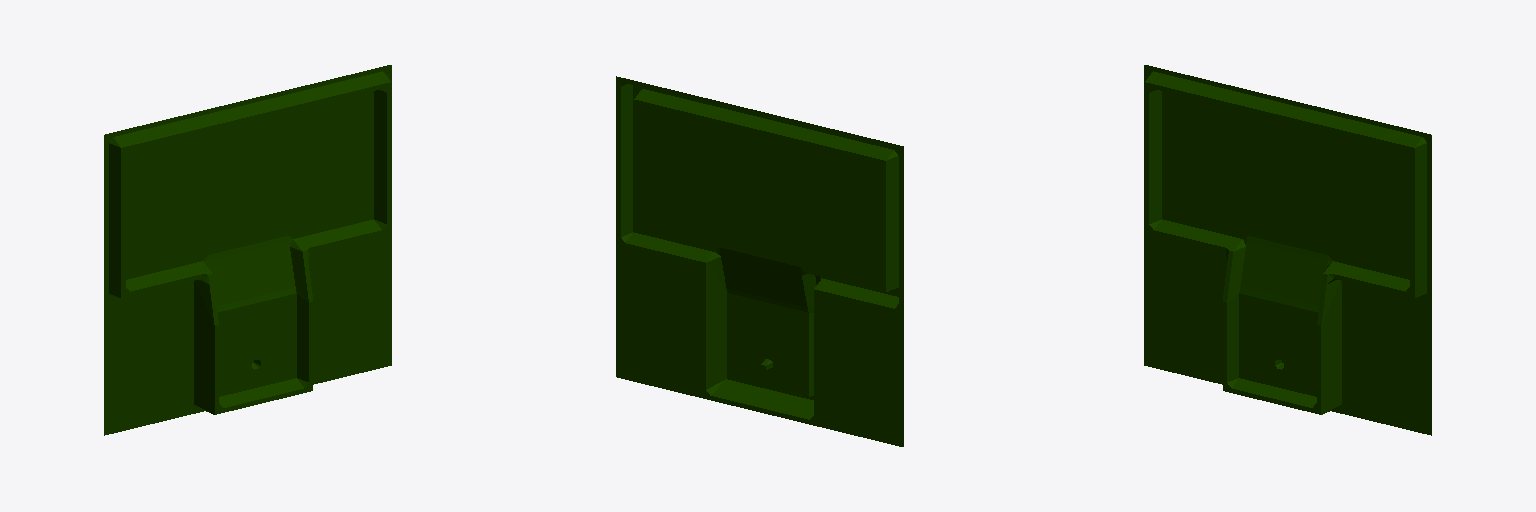
The model's file is courseBv3.obj.
3 views of the same model, side by side, from view 1: azimuth 30°, elevation 25°; view 2: azimuth 150°, elevation 25°; view 3: azimuth 330°, elevation 25° (orthographic).
Parts seen in each view (by area): view 1: Plane; view 2: Plane; view 3: Plane.
Boxes of the visible parts, box(x1,y1,x2,y2) form: Plane: box(104, 65, 391, 435); Plane: box(616, 76, 903, 446); Plane: box(1144, 65, 1431, 435).
Bounding box in the file's own units: 0.5 × 0.5 × 0.0484.